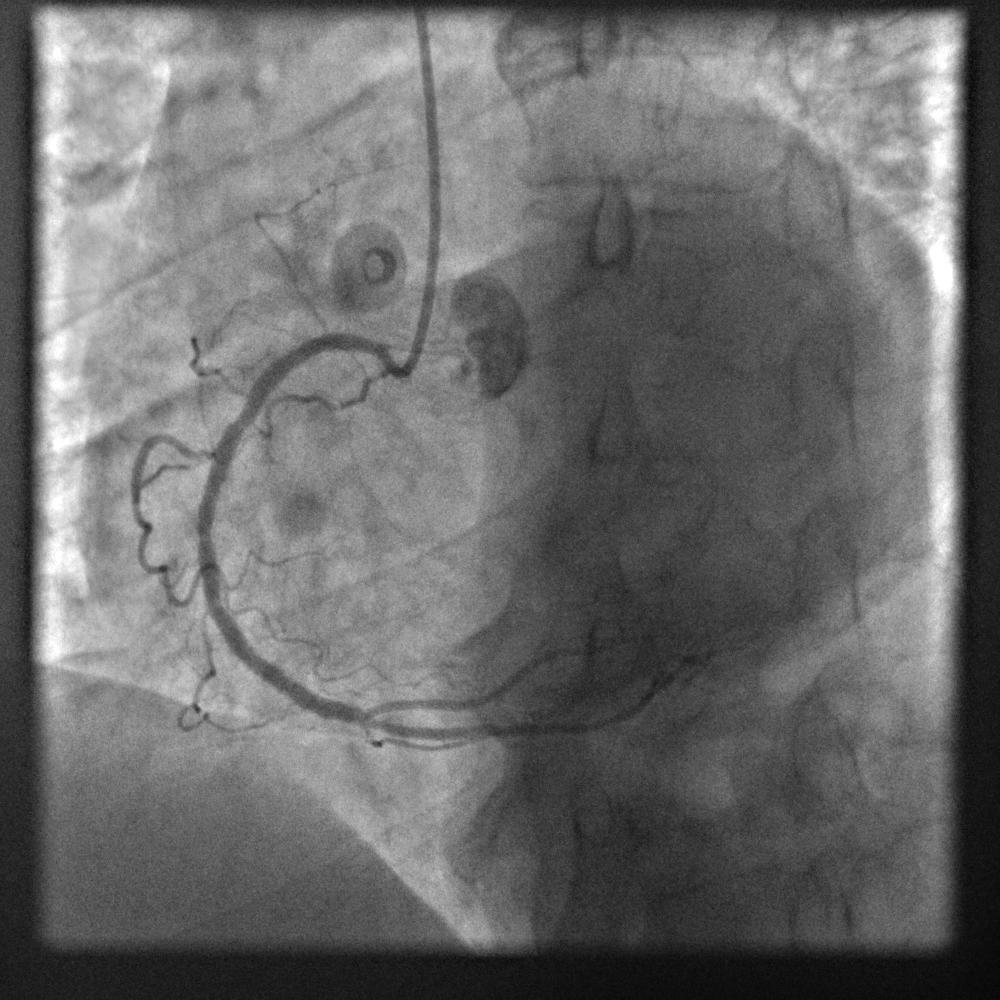Stenosis: (217, 383, 262, 440)
